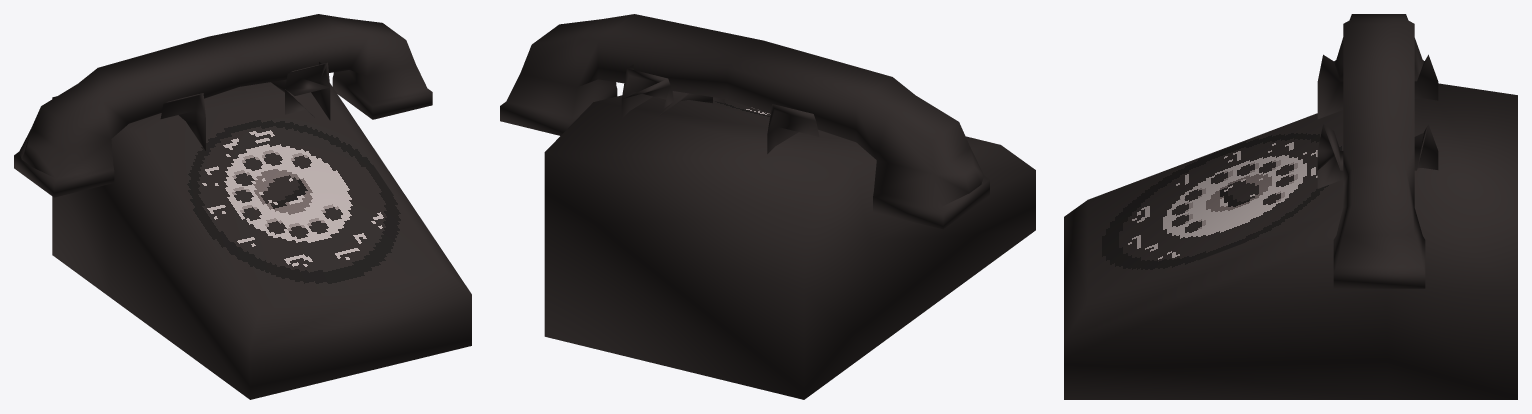
The model's file is phone.glb.
3 views of the same model, side by side, from view 1: azimuth 30°, elevation 25°; view 2: azimuth 150°, elevation 25°; view 3: azimuth 270°, elevation 25° (orthographic). The views are drawn at different scales.
Parts seen in each view (by area): view 1: Cube.003; view 2: Cube.003; view 3: Cube.003.
Boxes of the visible parts, x1,y1,x2,y2 form: Cube.003: (14,14,471,399); Cube.003: (500,14,1035,399); Cube.003: (1064,14,1517,399).
Bounding box in the file's own units: 0.5644 × 0.3133 × 0.5012.
1 material, 1 textured.
